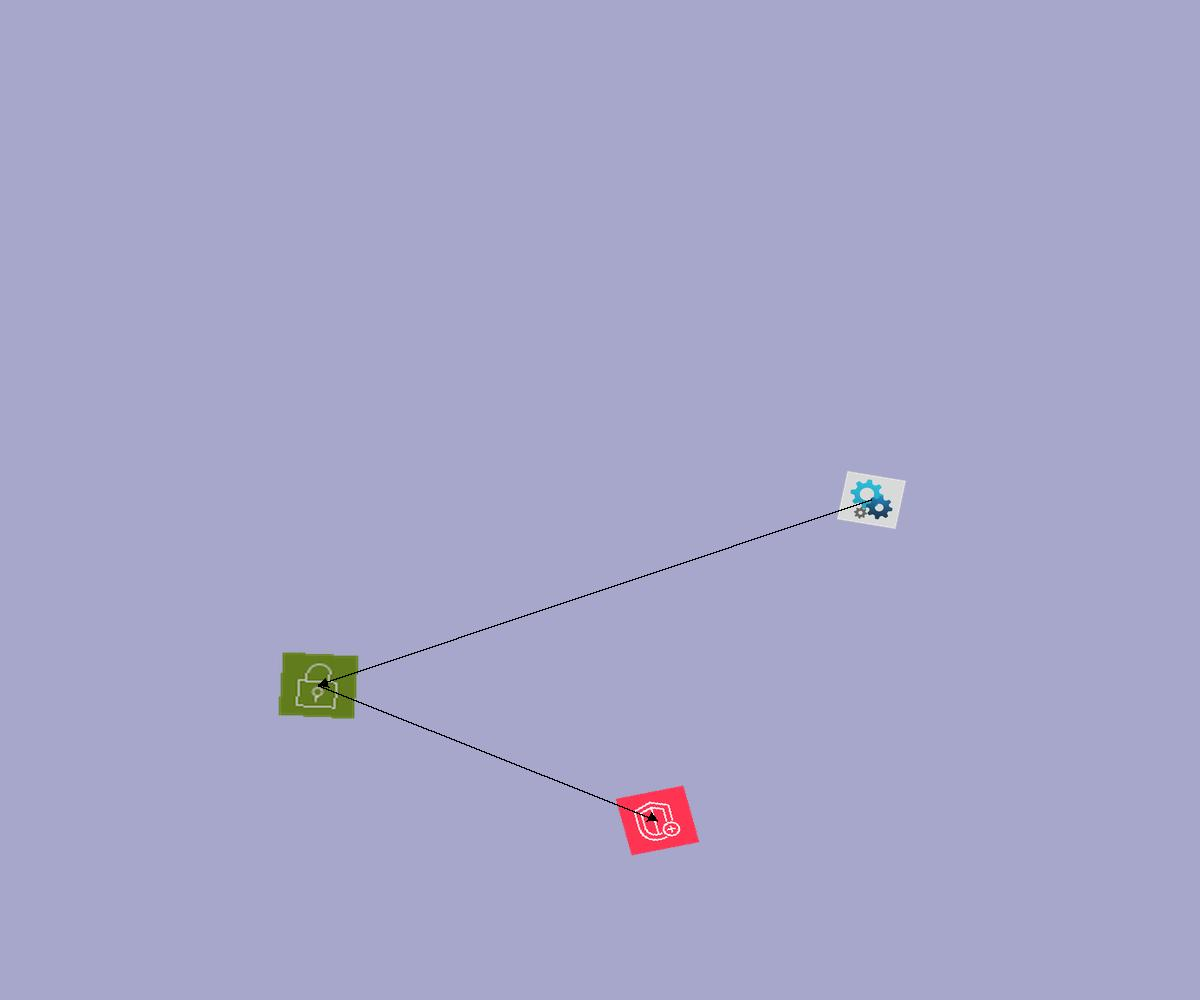AWS-Public-subnet: (277, 651, 360, 720)
AWS-Shield: (615, 785, 700, 856)
Azure_api: (837, 471, 906, 529)
